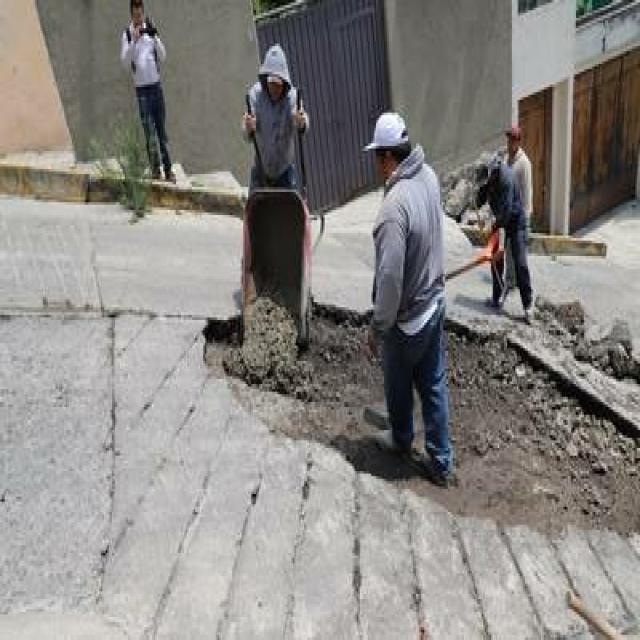pothole: (192, 269, 639, 587)
